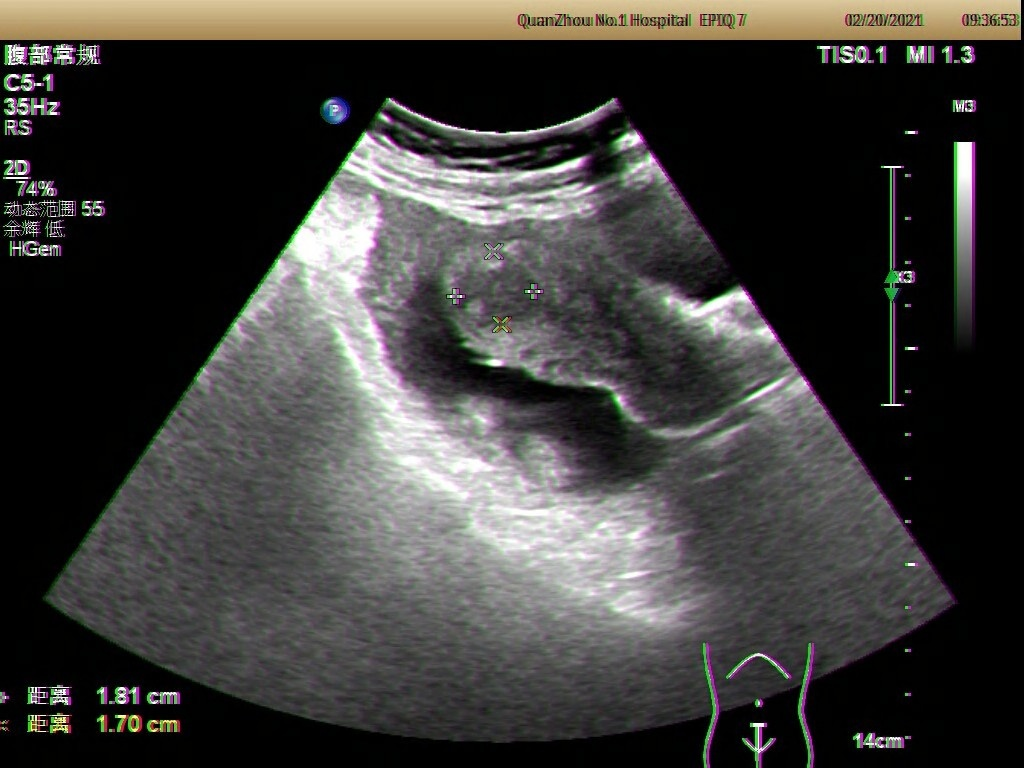肌瘤: (455, 253, 536, 326)
